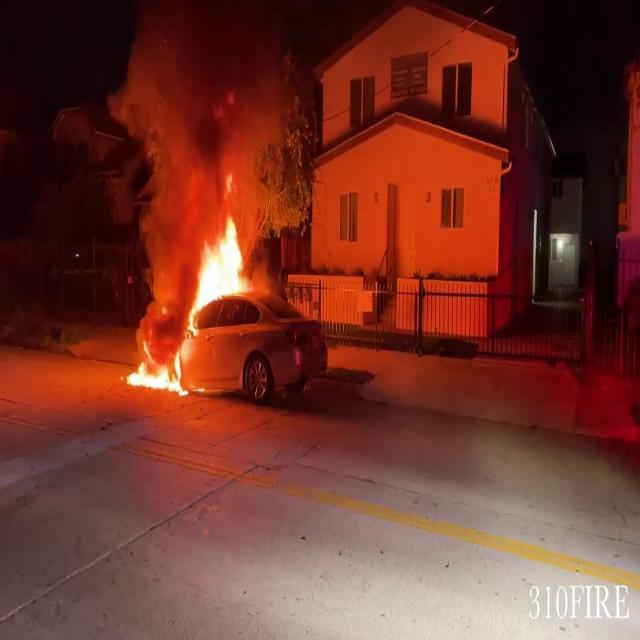Fire: (178, 205, 262, 331), (119, 334, 193, 396)
Smoke: (108, 1, 336, 222)
